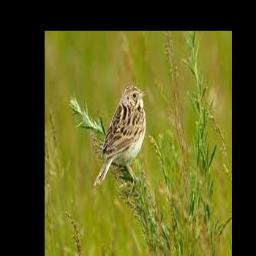Sparrow: (93, 85, 146, 187)
